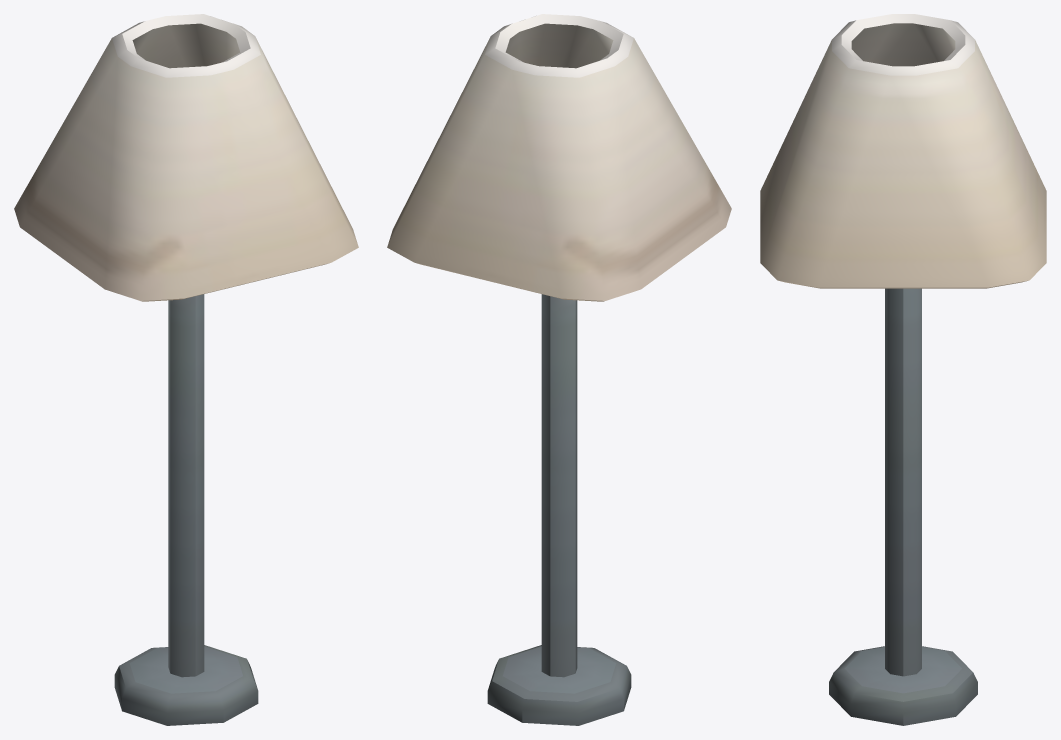
Rendered from fur_lamp_standing.glb.
3 views of the same model, side by side, from view 1: azimuth 30°, elevation 25°; view 2: azimuth 150°, elevation 25°; view 3: azimuth 270°, elevation 25° (orthographic).
Parts seen in each view (by area): view 1: lamp_standing; view 2: lamp_standing; view 3: lamp_standing.
Boxes of the visible parts, x1,y1,x2,y2 form: lamp_standing: [14, 14, 358, 725]; lamp_standing: [387, 14, 731, 725]; lamp_standing: [760, 14, 1046, 725].
Bounding box in the file's own units: 1 × 2.52 × 1.
Materials: 1 (1 with a texture image).
